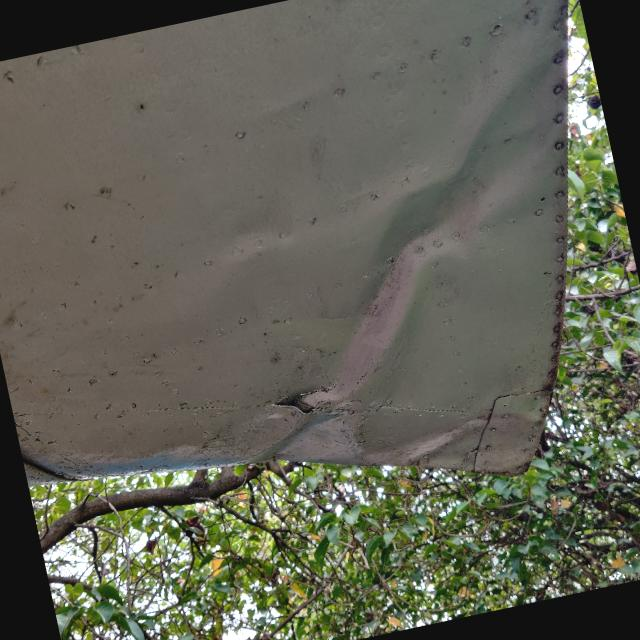dent: (272, 10, 633, 414)
